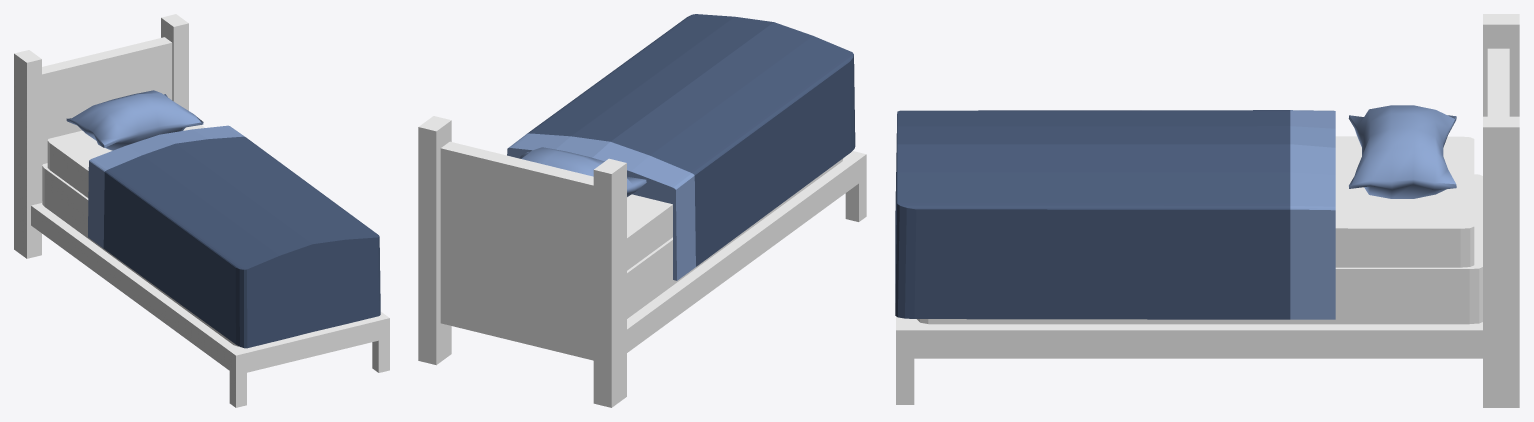
Rendered from Lv2 Bed.fbx.
3 renders of one model, left to right at view 1: azimuth 30°, elevation 25°; view 2: azimuth 150°, elevation 25°; view 3: azimuth 270°, elevation 25°, orthographic. The views are drawn at different scales.
Parts seen in each view (by area): view 1: Lv2 Bed; view 2: Lv2 Bed; view 3: Lv2 Bed.
Part boxes in pixels (x1,y1,x2,y2): Lv2 Bed: (14,14,389,407); Lv2 Bed: (418,14,866,407); Lv2 Bed: (895,14,1519,407).
Size of the model in its own units: 79.71 by 92.19 by 186.
